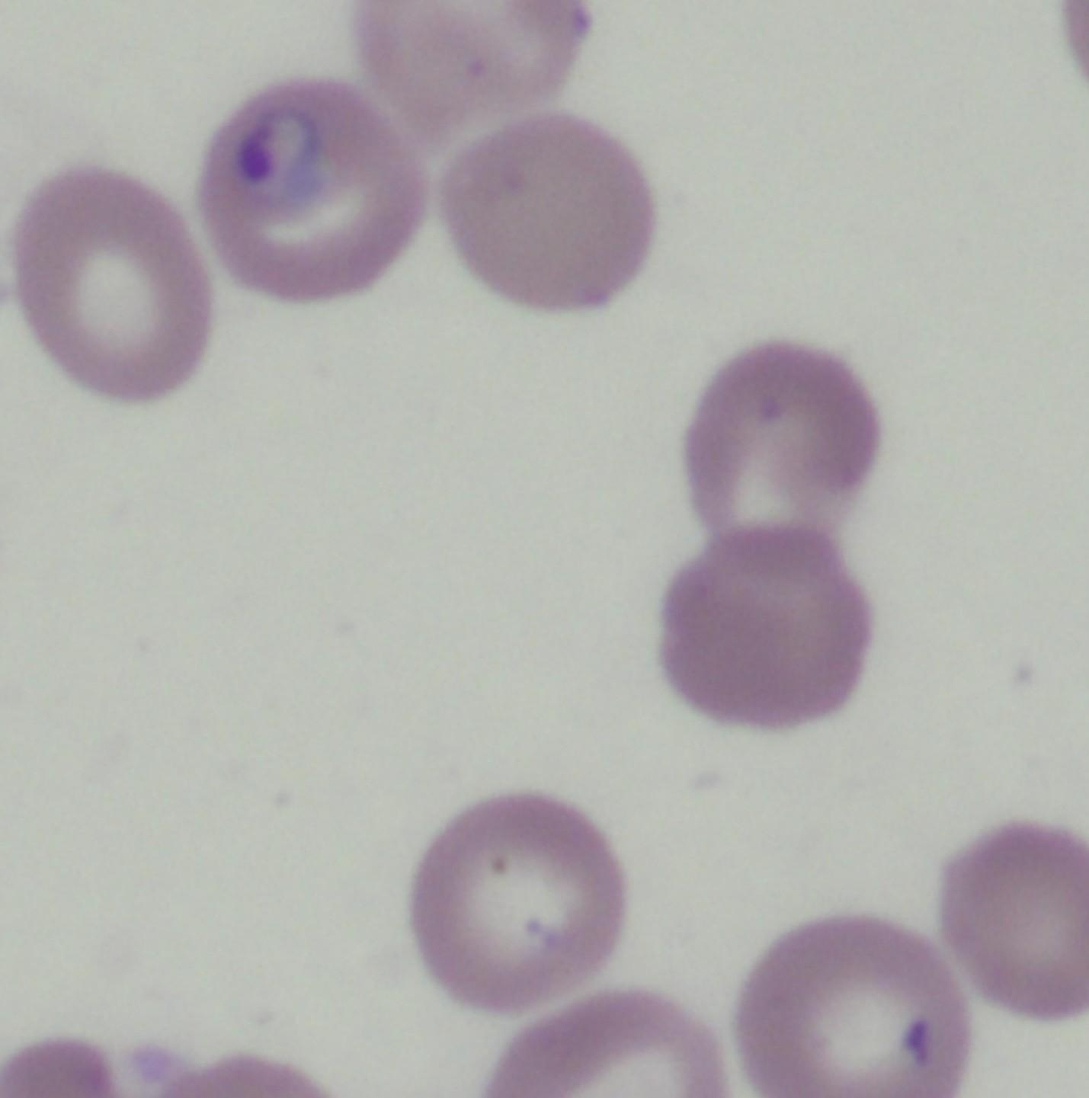Infected: (660, 788, 882, 1010)
Uninfected: (465, 92, 682, 302), (884, 702, 1084, 925), (117, 0, 356, 180), (208, 539, 405, 751), (229, 369, 430, 569), (442, 791, 649, 974), (0, 80, 147, 271)
